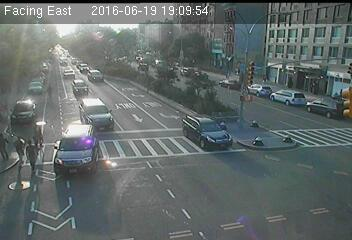neg: (259, 171, 278, 198), (167, 161, 185, 184), (169, 54, 186, 76), (205, 99, 221, 121), (197, 10, 211, 29), (14, 37, 28, 56), (280, 133, 294, 152), (161, 104, 175, 122), (121, 11, 135, 29), (228, 39, 241, 56), (249, 134, 262, 151), (296, 34, 308, 50), (24, 8, 36, 24), (70, 12, 81, 28), (21, 67, 32, 82), (136, 56, 147, 71), (111, 49, 121, 62)
pos: (17, 139, 42, 173), (9, 137, 27, 161)
